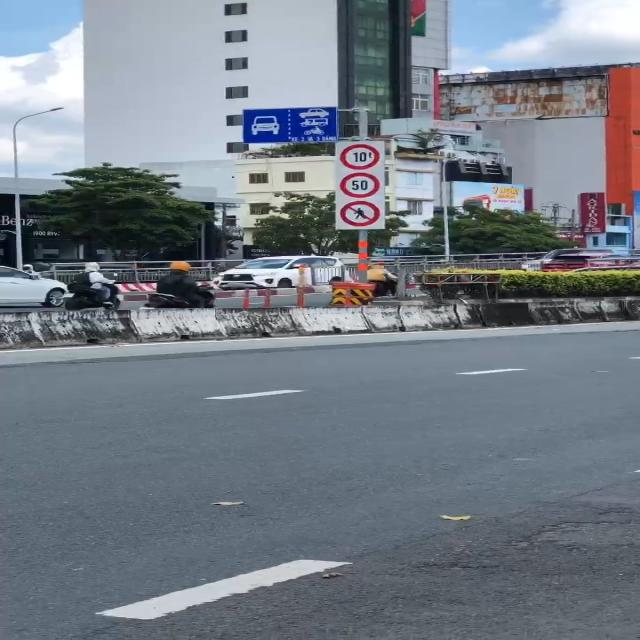Bien bao cam nguoi di bo: (340, 200, 390, 228)
Bien bao toc do toi da cho phep: (337, 172, 383, 197)
